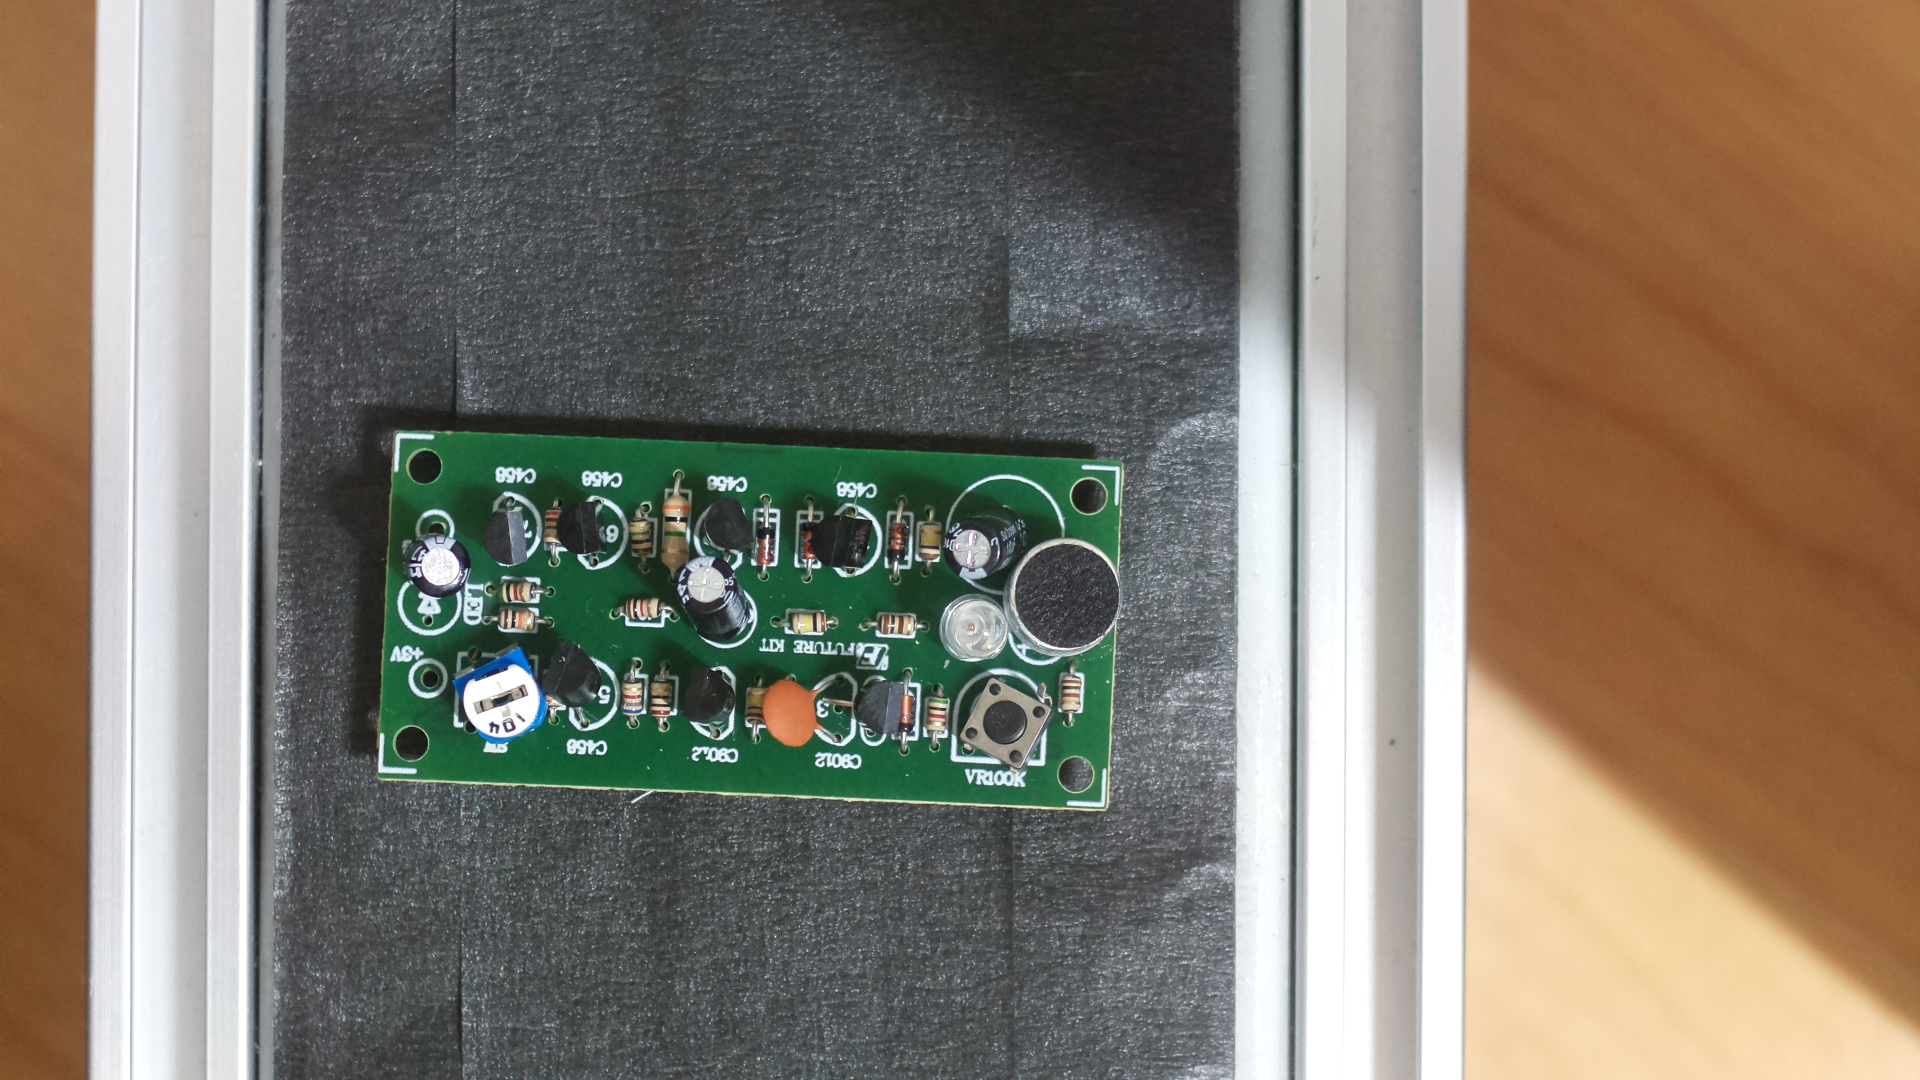A_Misordered: (368, 411, 1155, 823)
